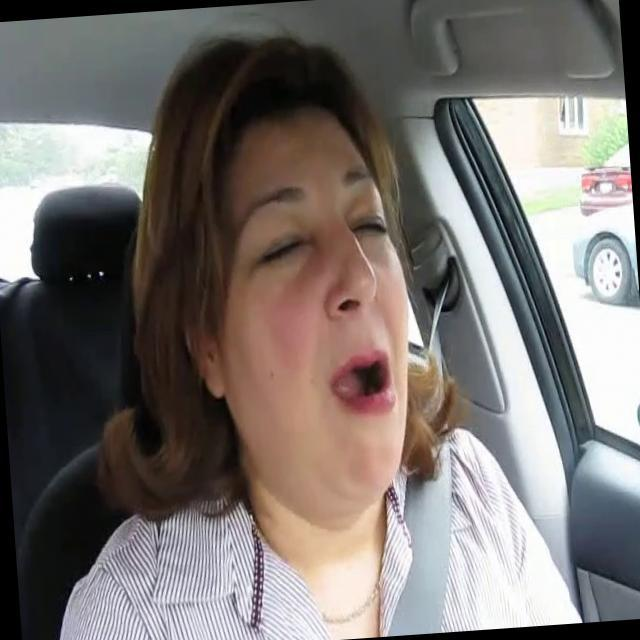Yawning: (328, 346, 401, 426)
